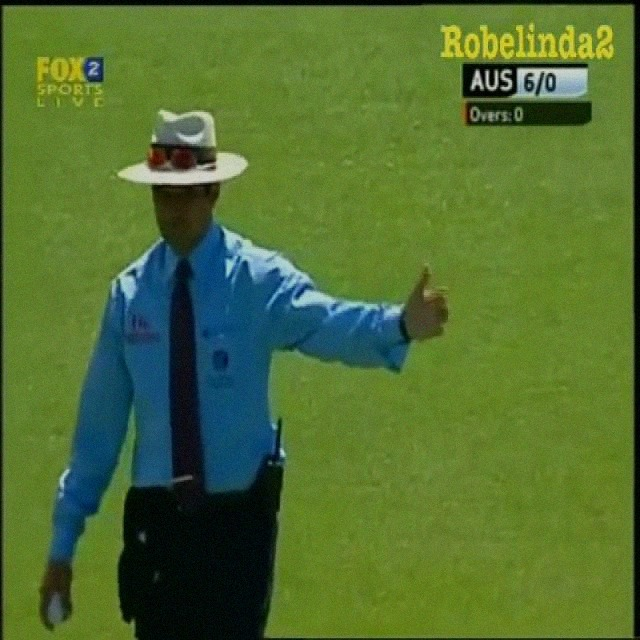No_Ball: (32, 100, 459, 639)
